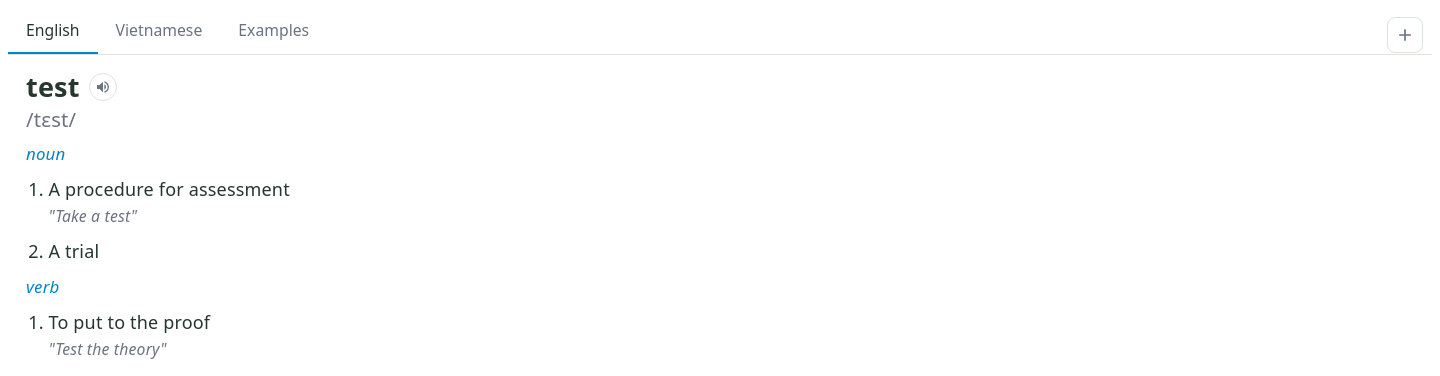
Test case: StatelessDictionary › shows placeholder when no Vietnamese meaning
Click the button "Vietnamese".
click(159, 31)  # box [98,8,220,54]
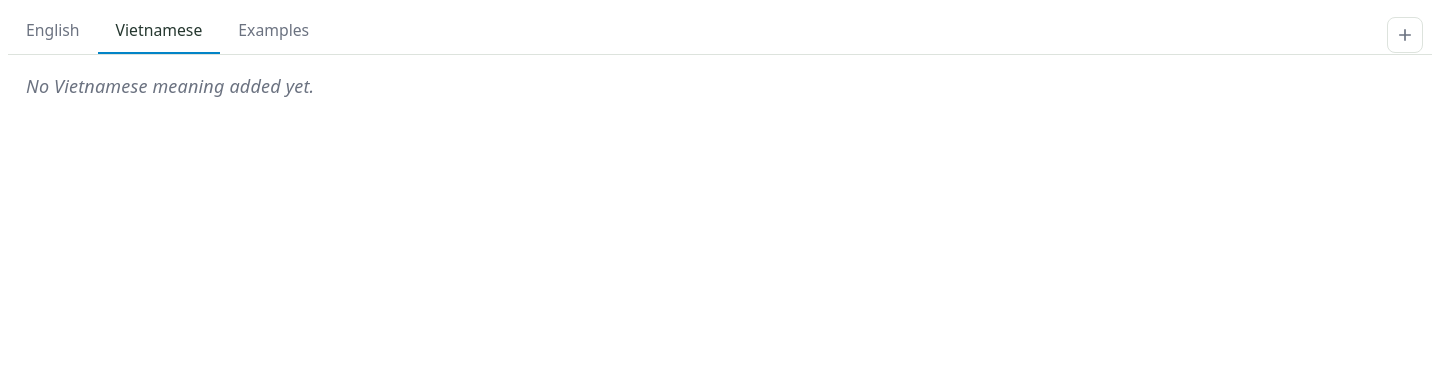
Now the text "No Vietnamese meaning added yet." is shown, box [26,74,314,98]
